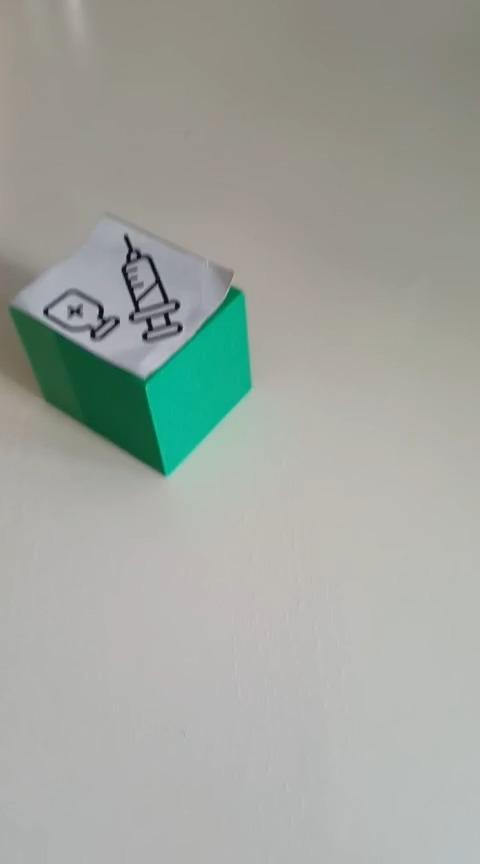antiseptic cream: (8, 209, 253, 477)
